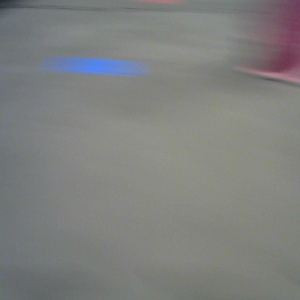Right: (253, 1, 300, 81)
